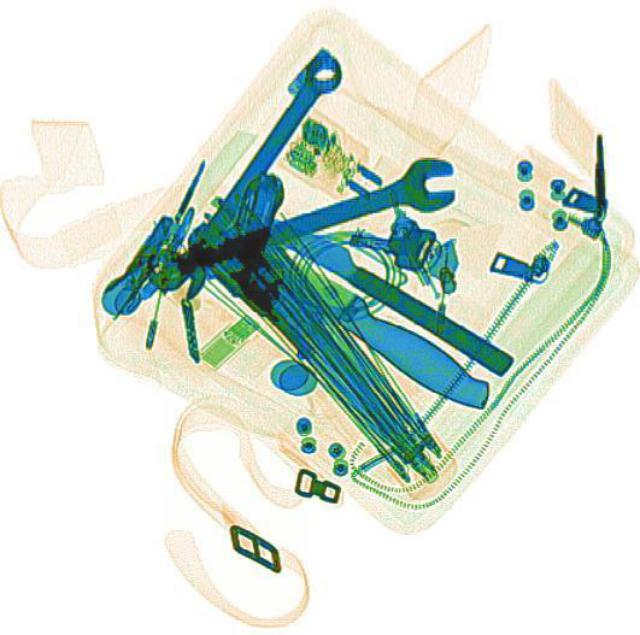Gun: (178, 166, 386, 359)
Knife: (188, 194, 498, 421), (208, 173, 518, 376)
Wrench: (147, 44, 351, 299), (135, 149, 465, 298)
